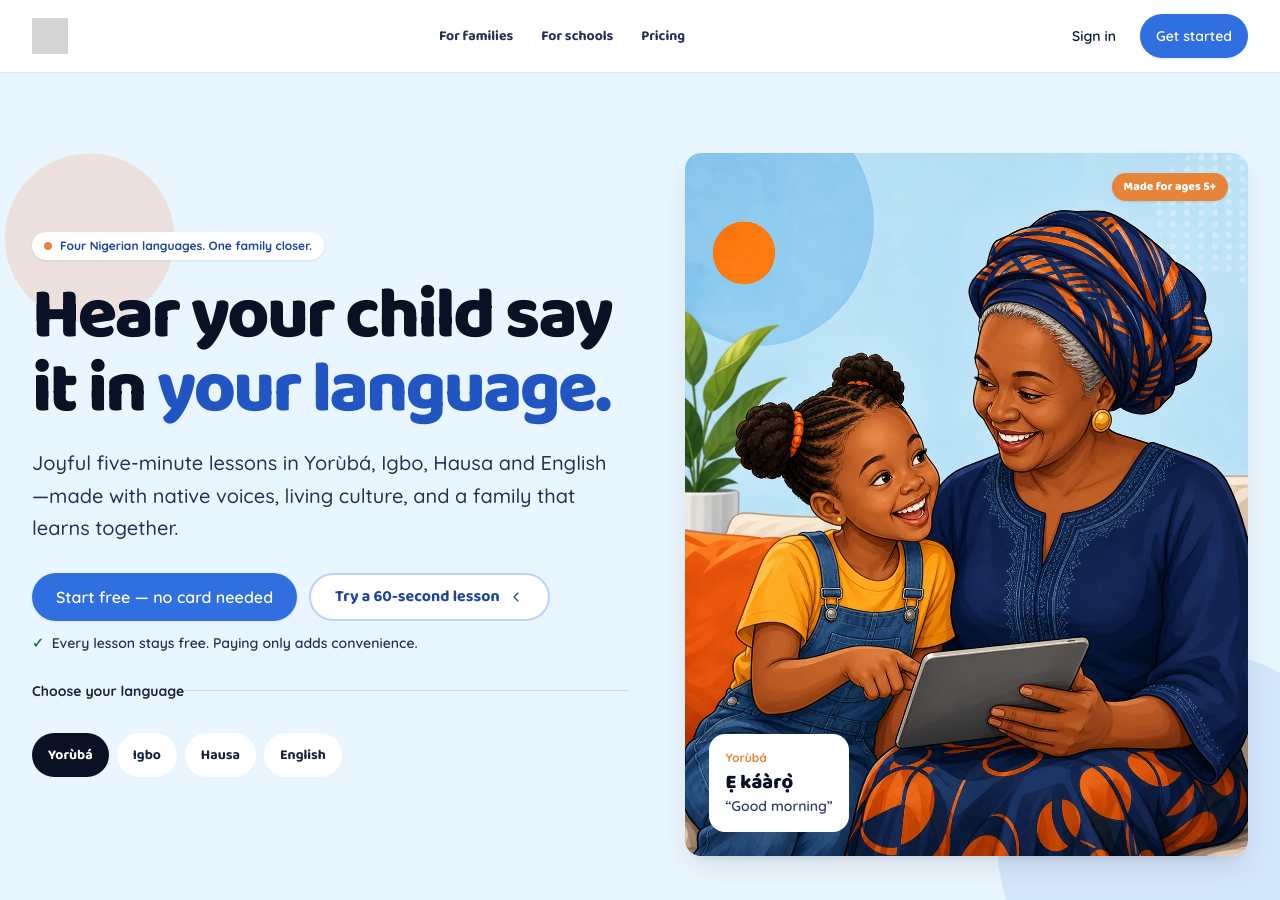
Test case: LandingPage › switching language updates the greeting card and the lesson
expect the text "Ẹ káàrọ̀" is shown: met, box [725,766,793,798]
Click the button "Igbo" at [147, 755], box [117,733,177,777]
(page scrolled)
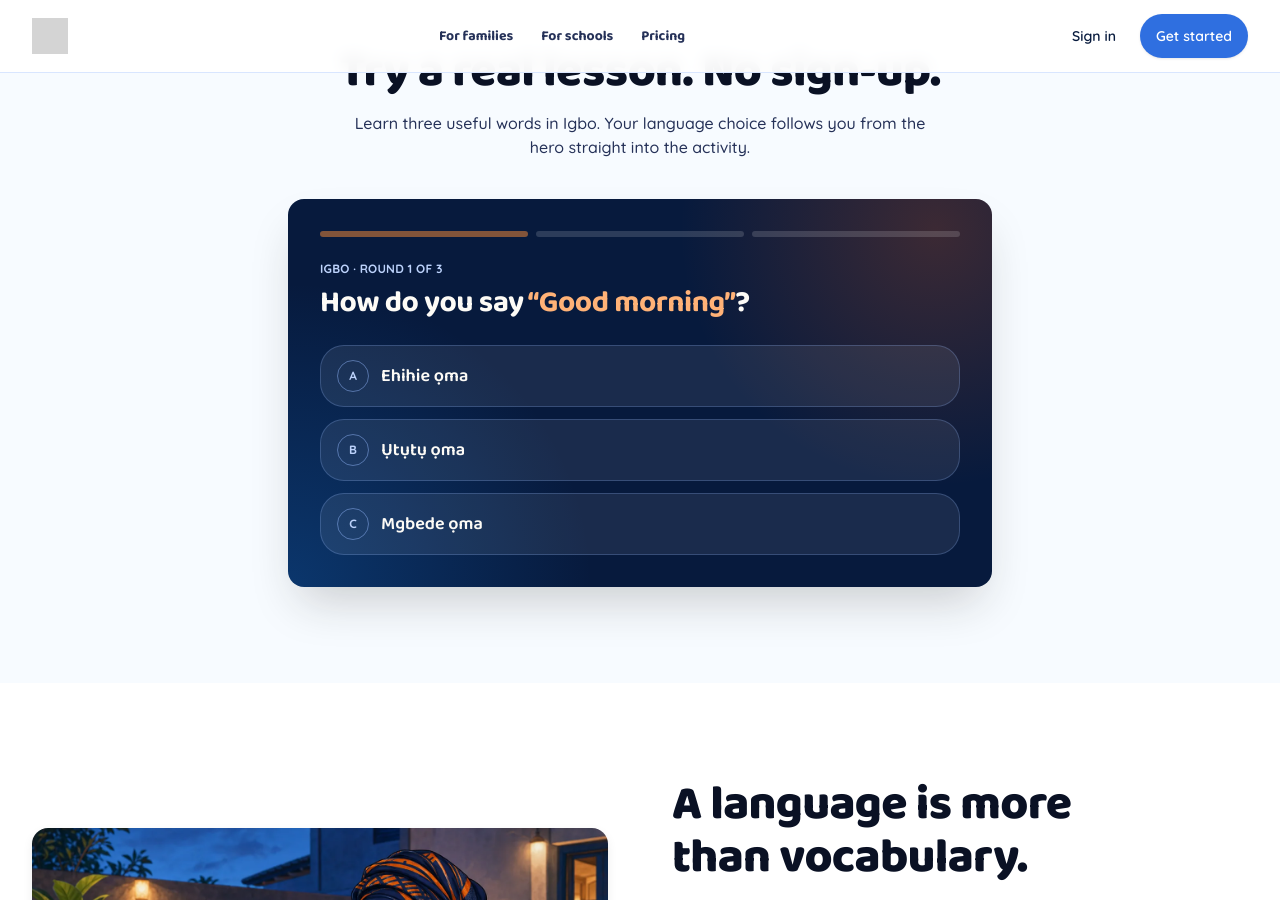
expect the text "Ẹ káàrọ̀" is not shown: met
expect the button "B Ụtụtụ ọma" is shown: met, box [320,419,960,481]
